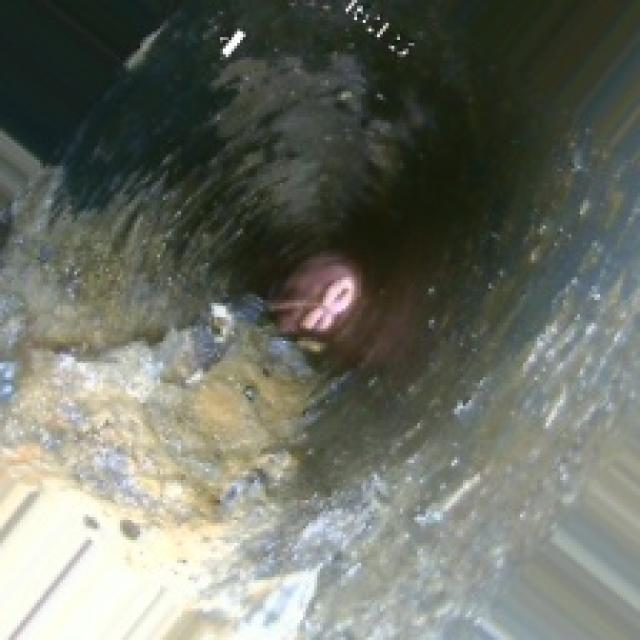sluge accumulation: (31, 303, 300, 614)
